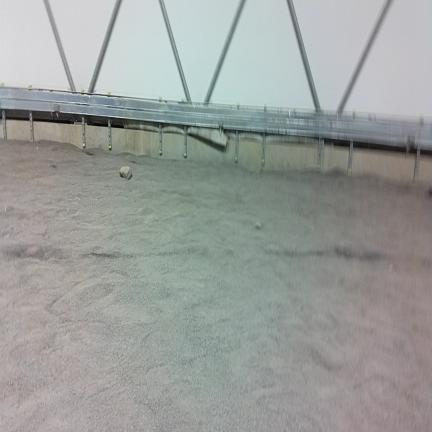Rock: (120, 166, 131, 179), (255, 221, 262, 229), (429, 186, 431, 196), (51, 164, 56, 168)
